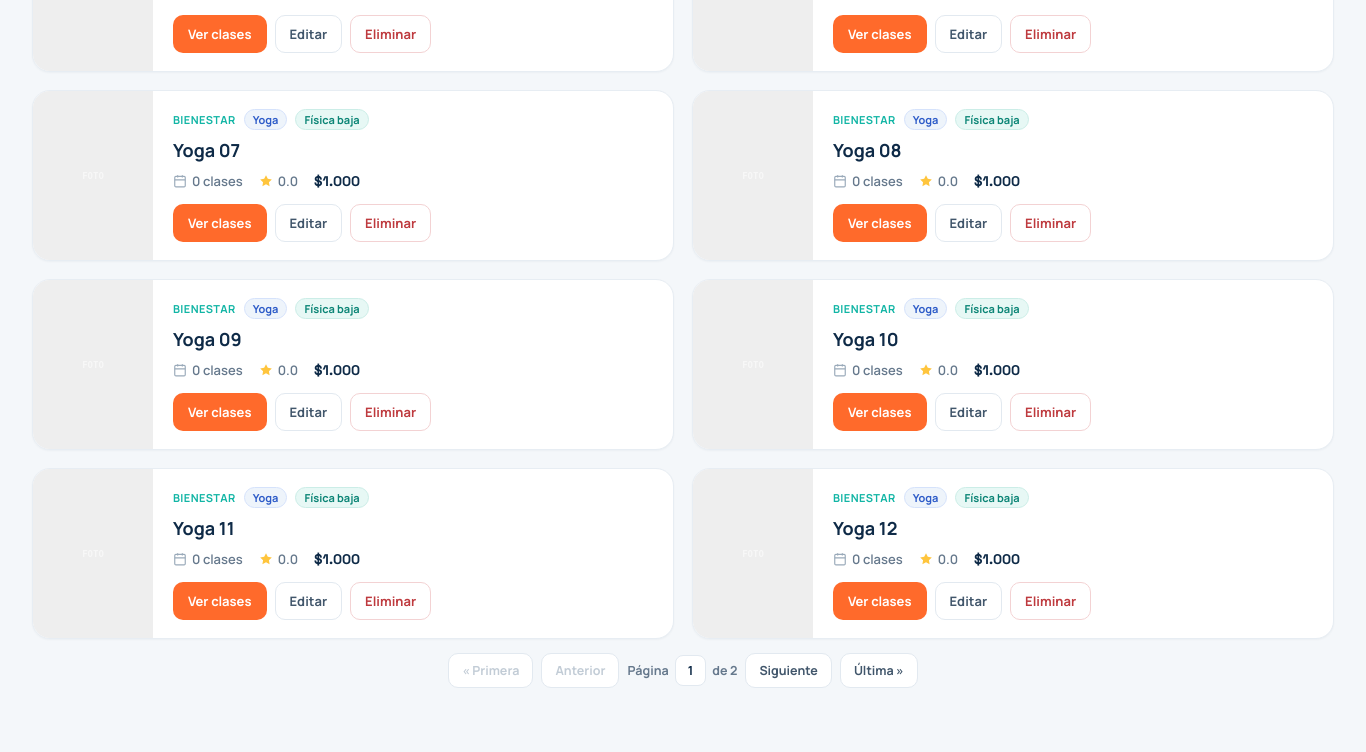
Test: mis actividades › muestra 12 por página, sólo las del instructor
The width and height of the screenshot is (1366, 752).
(page scrolled)
Click the button "Siguiente".
click(789, 670)  # box [745, 653, 832, 688]
(page scrolled)
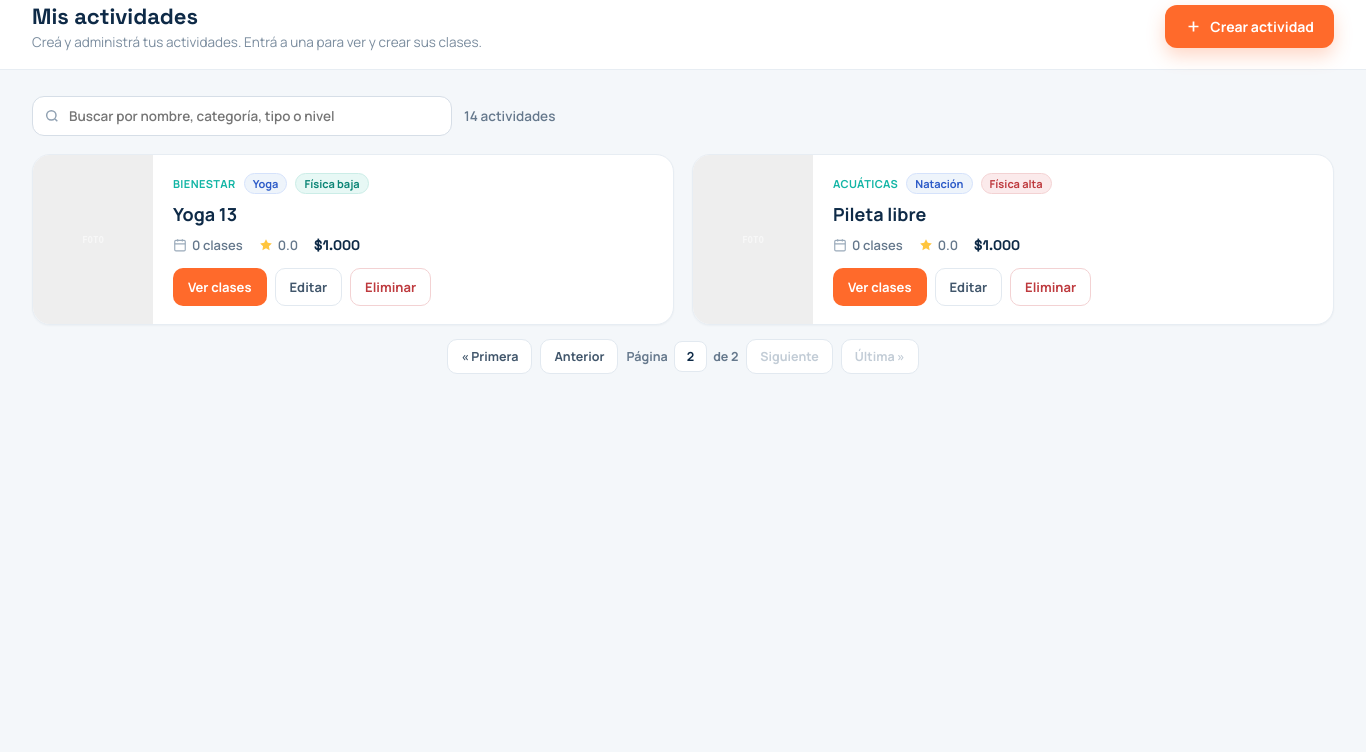
Now the number of buttons "Ver clases" is 2, box [173, 268, 266, 306]; [833, 268, 926, 306]
